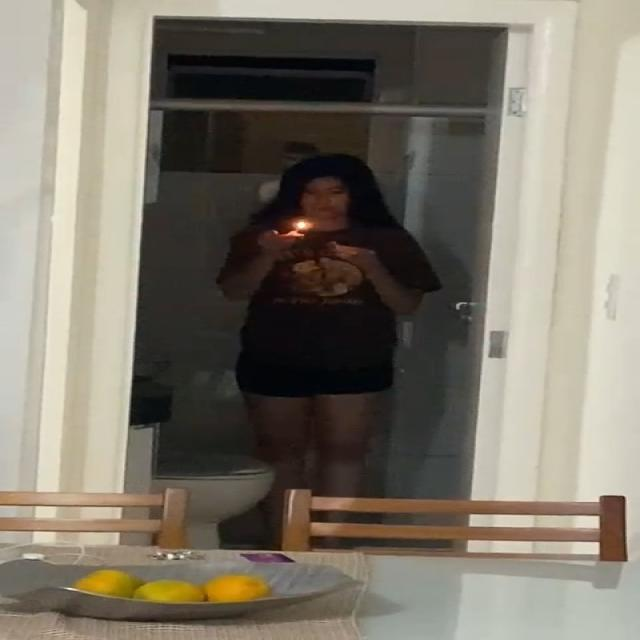fire: (291, 216, 315, 232)
